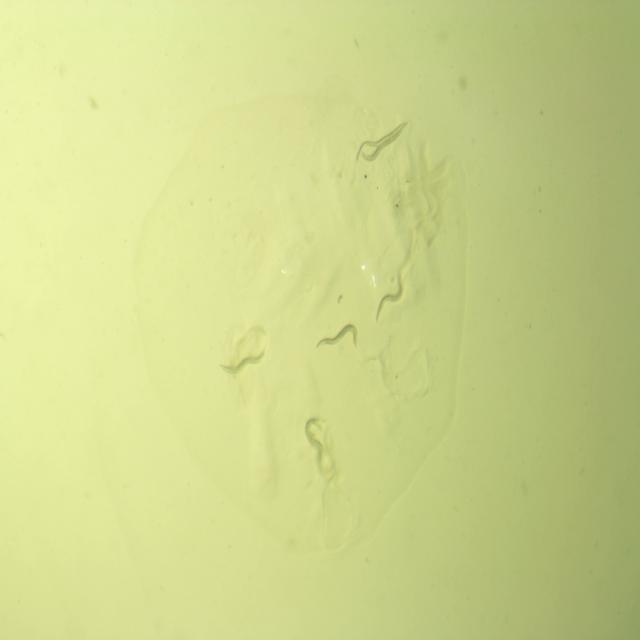worm: (353, 120, 406, 166), (360, 117, 411, 164), (217, 342, 268, 382), (314, 318, 361, 359), (374, 269, 406, 328), (300, 414, 330, 463)
